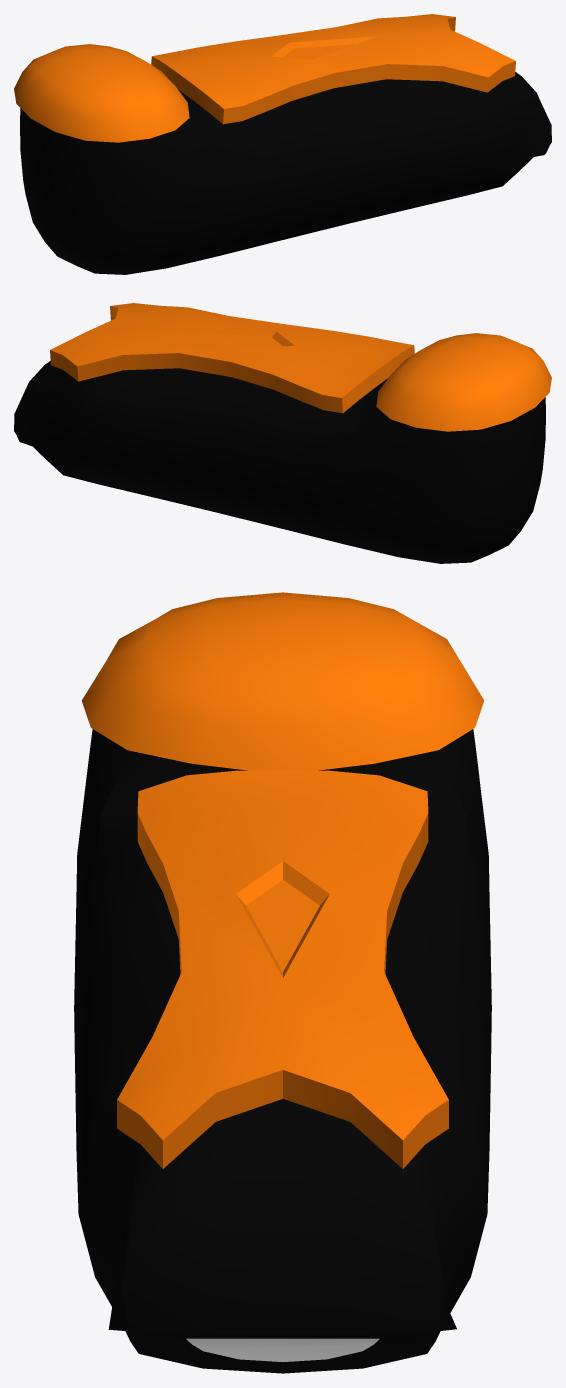
The model's file is new_simHand_id33.fbx.
The picture shows the model from 3 angles, top to bottom: view 1: azimuth 30°, elevation 25°; view 2: azimuth 150°, elevation 25°; view 3: azimuth 270°, elevation 25°; orthographic projection. The views are drawn at different scales.
Visible parts, largest first — view 1: Cube.001; view 2: Cube.001; view 3: Cube.001.
Part boxes in pixels (x1,y1,x2,y2): Cube.001: (14,14,551,274); Cube.001: (14,303,551,563); Cube.001: (74,592,491,1373).
Bounding box in the file's own units: 111 × 45.3 × 41.1.
